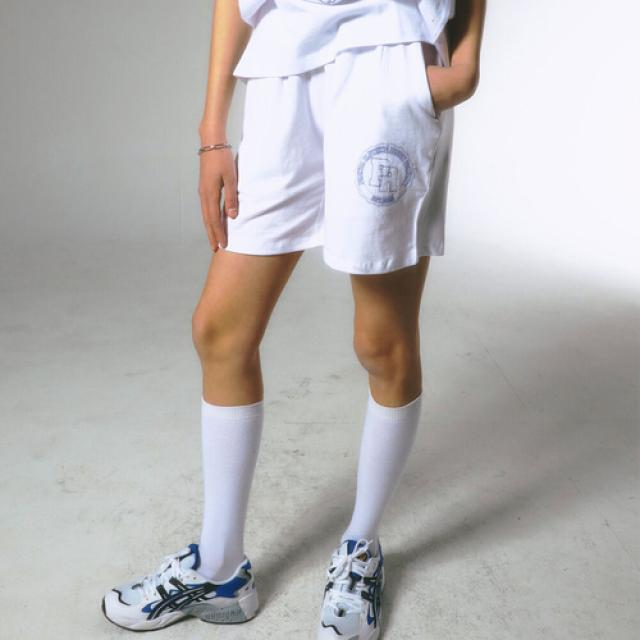Blouse_deep: (222, 44, 454, 270)
